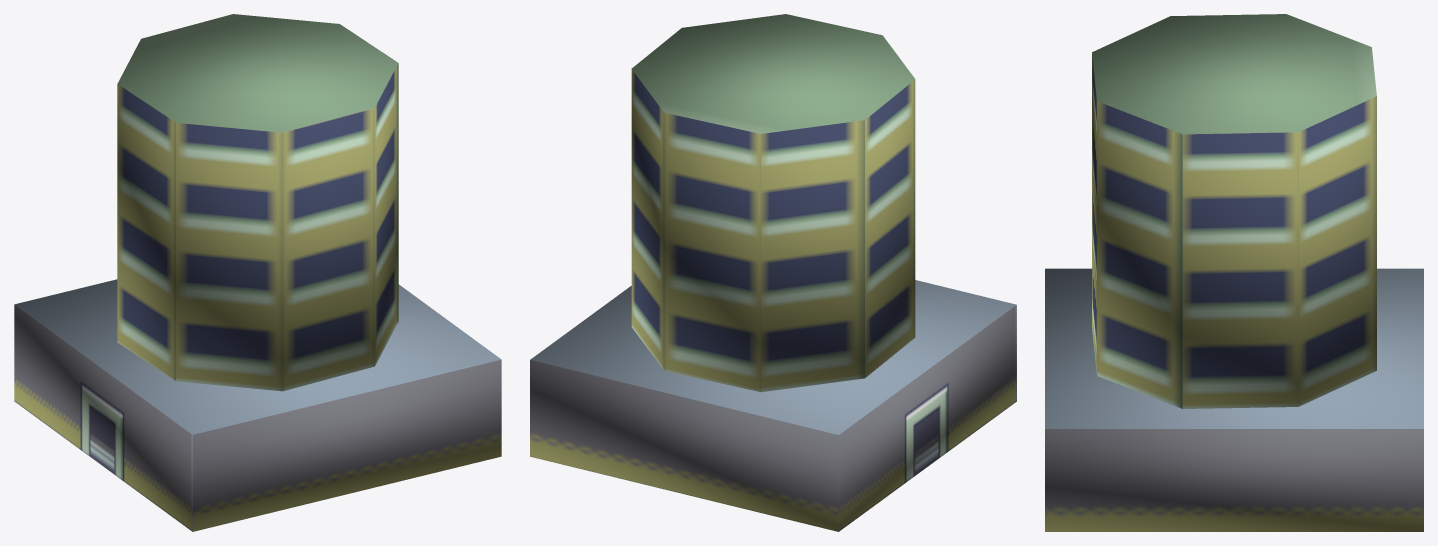
The model's file is TorreLavanda.obj.
The picture shows the model from 3 angles, left to right: view 1: azimuth 30°, elevation 25°; view 2: azimuth 150°, elevation 25°; view 3: azimuth 270°, elevation 25°; orthographic projection. The views are drawn at different scales.
Parts seen in each view (by area): view 1: Torre, BaseTorre; view 2: Torre, BaseTorre; view 3: Torre, BaseTorre.
Part boxes in pixels (bbox=[...]): Torre: bbox=[117, 14, 398, 391]; BaseTorre: bbox=[14, 279, 501, 531]; Torre: bbox=[631, 14, 915, 392]; BaseTorre: bbox=[530, 280, 1016, 531]; Torre: bbox=[1092, 14, 1376, 408]; BaseTorre: bbox=[1045, 268, 1423, 531].
Size of the model in its own units: 19.68 by 21.65 by 19.69.
